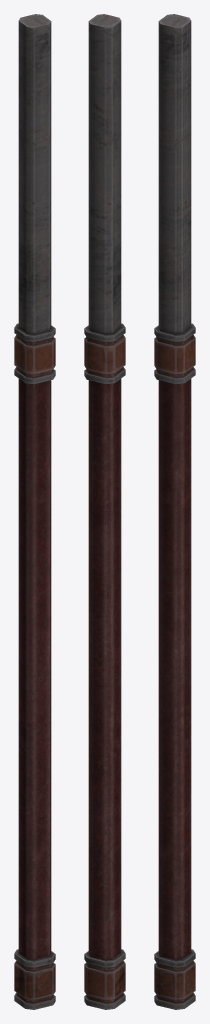
Rendered from sm_dwarf_iron_axe_handle_a.fbx.
3 views of the same model, side by side, from view 1: azimuth 30°, elevation 25°; view 2: azimuth 150°, elevation 25°; view 3: azimuth 330°, elevation 25° (orthographic).
Parts seen in each view (by area): view 1: sm_dwarf_iron_axe_handle_a; view 2: sm_dwarf_iron_axe_handle_a; view 3: sm_dwarf_iron_axe_handle_a.
Boxes of the visible parts, bbox=[...] form: sm_dwarf_iron_axe_handle_a: bbox=[14, 14, 55, 1009]; sm_dwarf_iron_axe_handle_a: bbox=[84, 14, 125, 1009]; sm_dwarf_iron_axe_handle_a: bbox=[154, 14, 195, 1009].
Bounding box in the file's own units: 0.0518 × 0.0518 × 1.6.
Materials: 1 (1 with a texture image).
